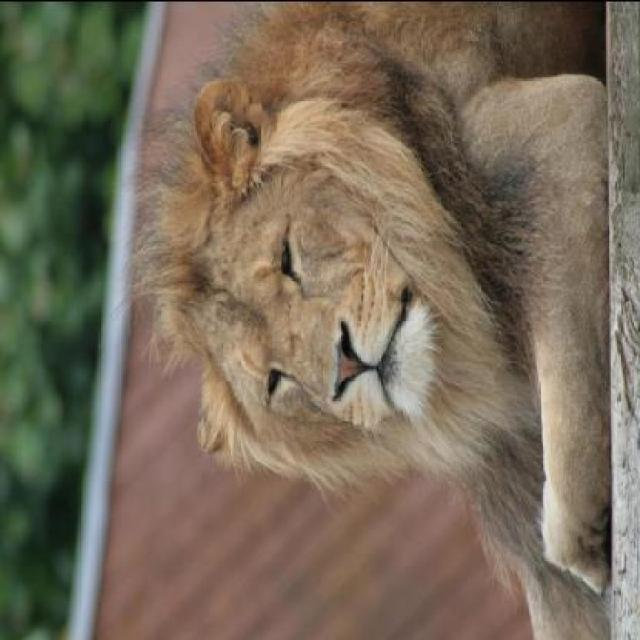Lion: (125, 2, 609, 636)
